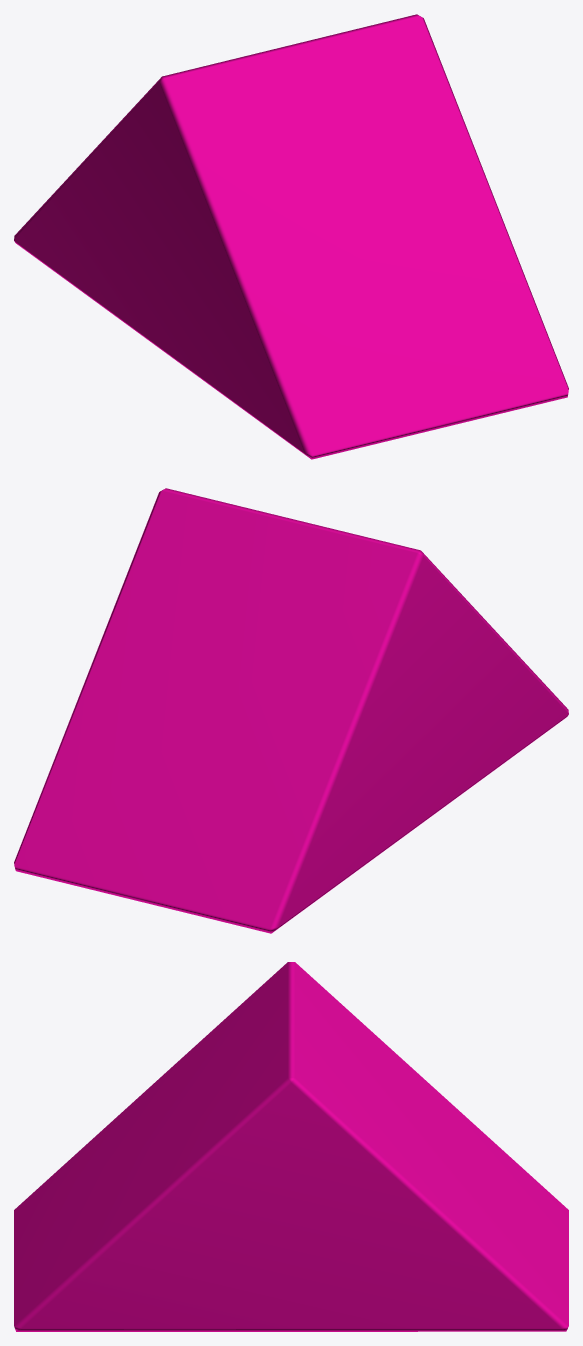
The model's file is Triangle02_V02.fbx.
The picture shows the model from 3 angles, top to bottom: view 1: azimuth 30°, elevation 25°; view 2: azimuth 150°, elevation 25°; view 3: azimuth 270°, elevation 25°; orthographic projection. The views are drawn at different scales.
Visible parts, largest first — view 1: Triangle4Inch002; view 2: Triangle4Inch002; view 3: Triangle4Inch002.
Boxes of the visible parts, <box> form: Triangle4Inch002: <box>14,14,568,459</box>; Triangle4Inch002: <box>14,488,568,933</box>; Triangle4Inch002: <box>14,962,568,1331</box>.
Bounding box in the file's own units: 508 × 501 × 993.
